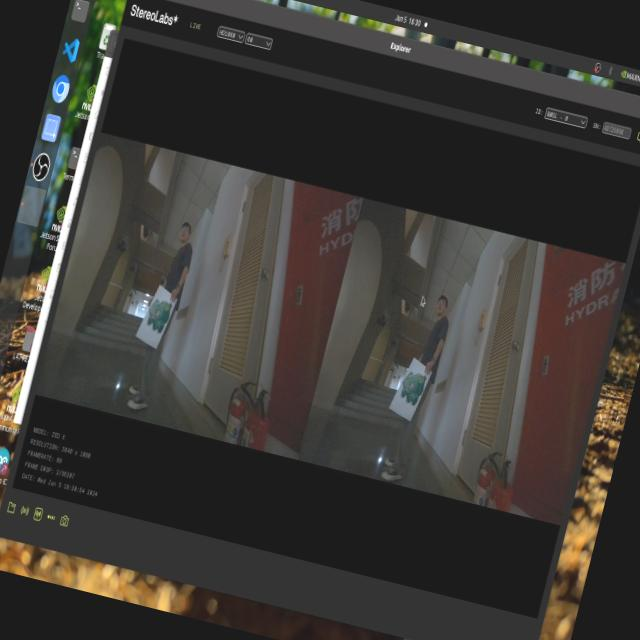green: (137, 292, 179, 340), (399, 368, 436, 412)
